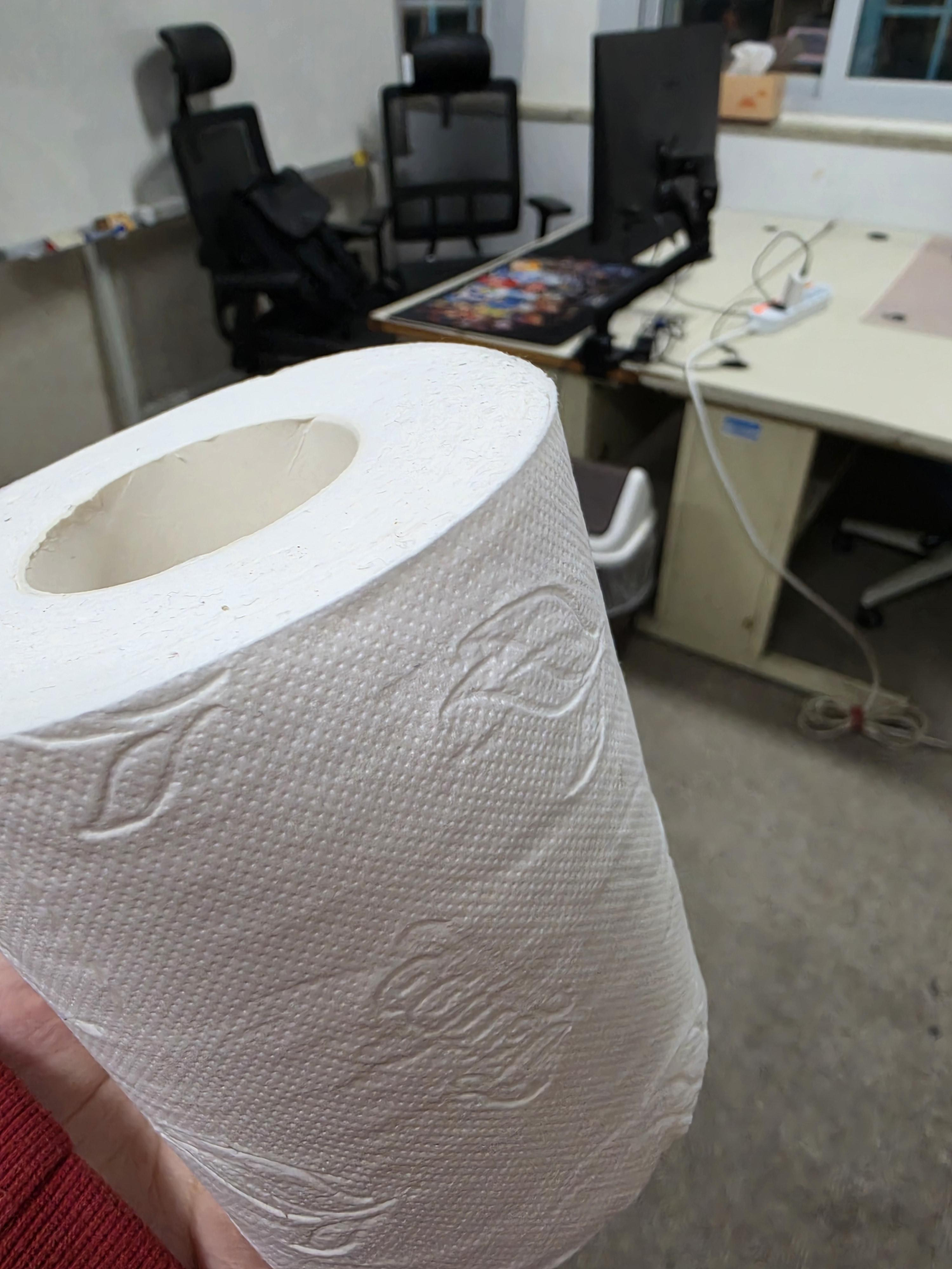tissue: (0, 341, 709, 1269), (718, 40, 785, 123)
